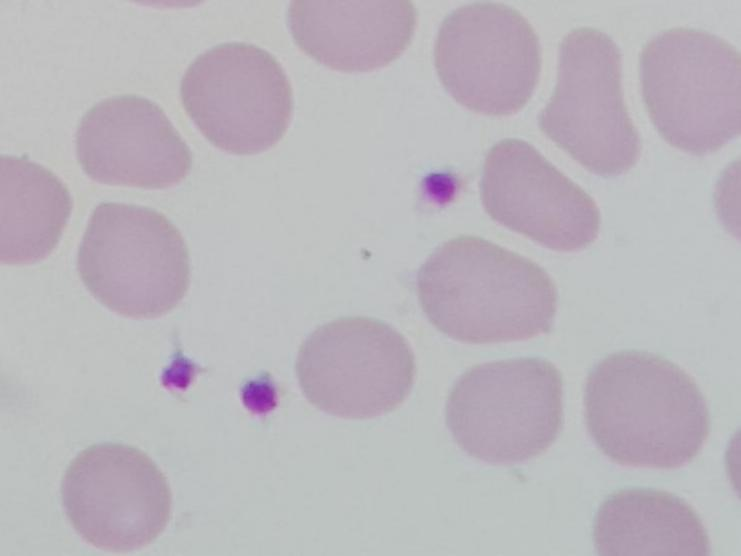Uninfected: (416, 236, 557, 344), (539, 26, 641, 175), (583, 351, 706, 470), (478, 139, 599, 253), (76, 201, 190, 319), (445, 358, 565, 465), (180, 43, 295, 154), (640, 26, 740, 153), (294, 317, 413, 420), (59, 444, 171, 552), (433, 3, 541, 115), (74, 94, 192, 191), (288, 1, 416, 73), (592, 490, 708, 555), (2, 154, 70, 263)
